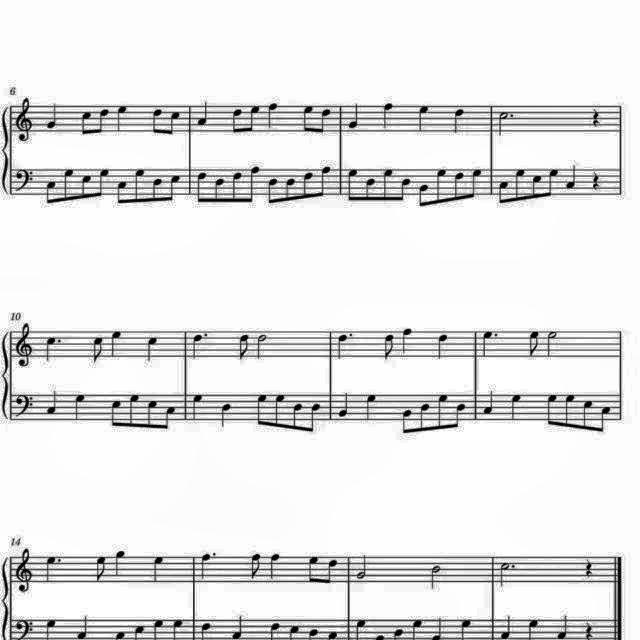Bass-clef: (12, 165, 36, 195), (12, 392, 36, 420)
Eighth-note: (434, 164, 452, 204), (436, 390, 452, 430), (246, 164, 262, 203), (304, 552, 322, 586), (562, 392, 578, 430), (272, 392, 288, 430), (62, 165, 78, 203), (132, 165, 148, 203), (380, 165, 396, 202), (512, 165, 528, 202), (230, 168, 246, 204), (580, 398, 596, 434), (90, 334, 108, 366), (194, 168, 210, 204), (246, 550, 264, 582), (252, 392, 268, 428), (596, 402, 612, 438), (544, 392, 560, 428), (127, 392, 143, 428), (92, 552, 110, 584), (235, 331, 253, 363), (76, 106, 94, 138), (379, 331, 397, 363), (524, 328, 542, 359), (468, 165, 484, 199), (318, 164, 334, 198), (344, 166, 360, 200), (288, 401, 304, 434), (96, 166, 112, 198), (301, 168, 317, 200), (418, 402, 434, 434), (266, 174, 282, 206), (230, 104, 246, 136), (300, 102, 316, 134), (168, 172, 184, 204), (144, 398, 160, 430), (148, 104, 164, 136), (308, 402, 324, 434), (544, 166, 560, 198), (246, 102, 262, 134), (452, 168, 466, 204), (398, 406, 414, 436), (110, 399, 126, 429), (326, 557, 342, 587), (96, 104, 112, 134), (318, 104, 332, 136), (212, 175, 228, 203), (282, 174, 298, 202), (167, 108, 183, 136), (416, 180, 432, 208), (116, 180, 132, 208), (163, 404, 179, 432), (44, 180, 60, 208), (79, 170, 93, 200), (454, 402, 468, 431), (149, 174, 163, 202), (398, 175, 412, 203), (529, 172, 543, 200), (496, 178, 510, 206), (362, 176, 378, 200)
Half-dot: (496, 558, 518, 588), (494, 109, 516, 139)
Half-note: (544, 329, 562, 359), (354, 551, 370, 581), (254, 331, 270, 361), (427, 562, 443, 590)
Quarter-dot: (478, 323, 502, 361), (42, 553, 66, 585), (337, 328, 359, 362), (44, 334, 66, 366), (188, 330, 210, 362), (197, 550, 219, 582)
Quarter-note: (150, 554, 170, 584), (43, 100, 61, 132), (345, 100, 363, 132), (415, 101, 433, 133), (397, 324, 415, 356), (112, 102, 130, 134), (70, 391, 88, 421), (110, 547, 128, 577), (435, 331, 453, 361), (450, 103, 468, 133), (143, 335, 161, 365), (42, 387, 59, 417), (108, 328, 124, 359), (509, 392, 526, 421), (216, 399, 234, 426), (378, 99, 394, 129), (266, 100, 282, 130), (188, 391, 204, 421), (362, 391, 378, 421), (268, 551, 284, 581), (195, 100, 212, 128), (482, 388, 498, 416), (563, 164, 579, 192), (337, 390, 353, 418)
Quarter-rest: (588, 104, 604, 130), (582, 555, 598, 579), (586, 171, 602, 195)
Treble-clef: (12, 546, 36, 596), (12, 320, 36, 370), (13, 96, 35, 146)
